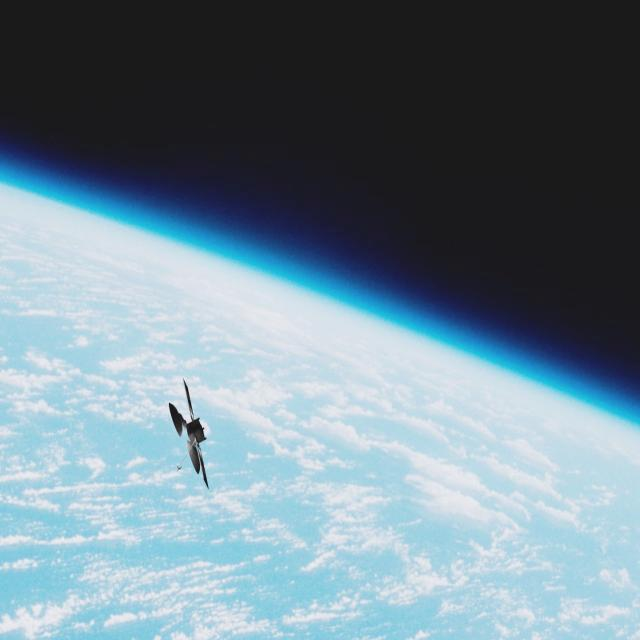satellite: (162, 377, 222, 488)
